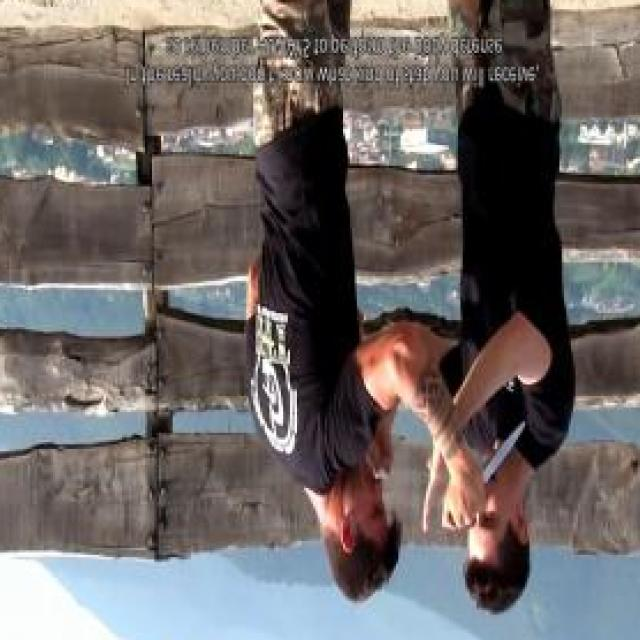knife: (442, 418, 528, 534)
